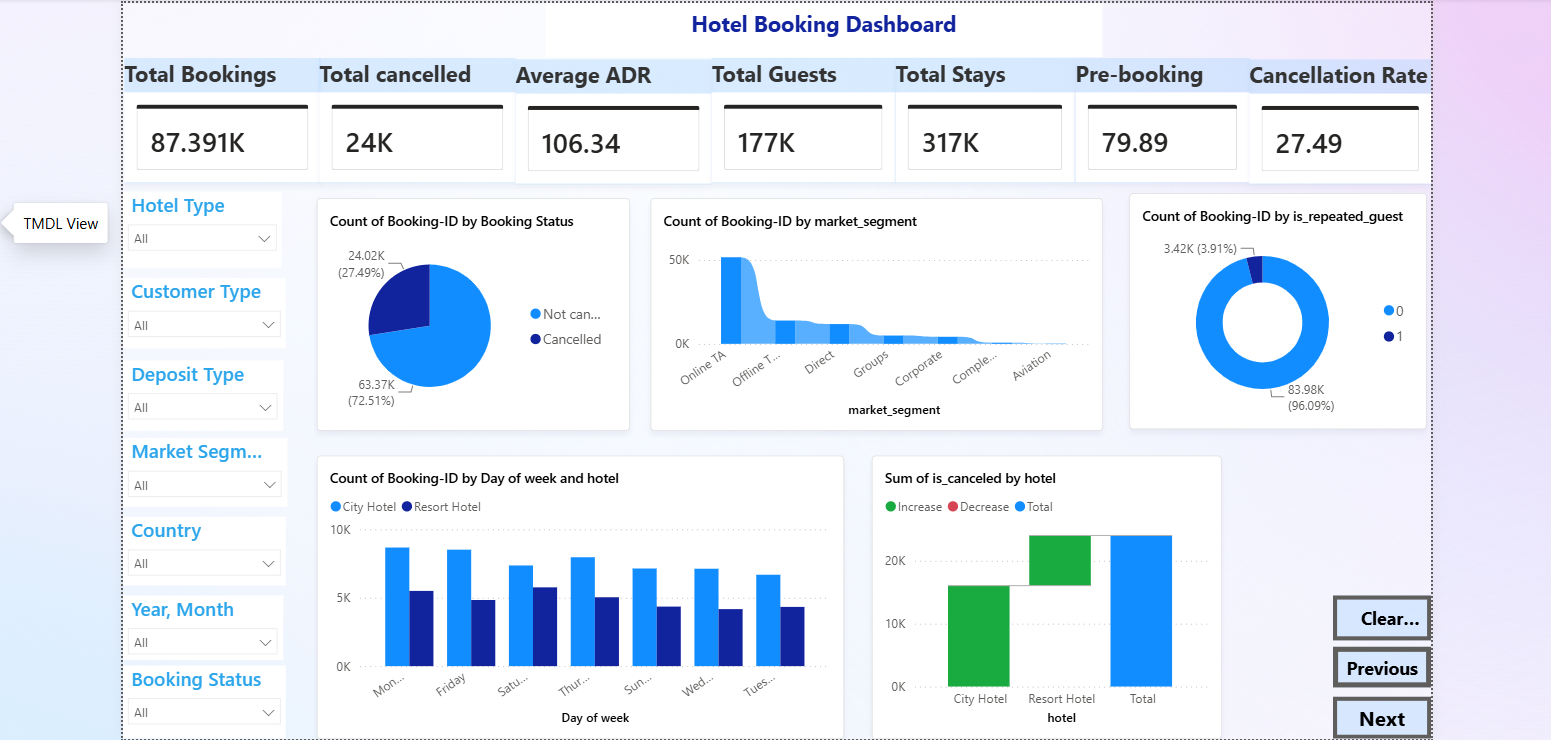

Layout of this report page (visuals, bound fields, positions):
{"tool":"powerbi","page":{"name":"Page 2","canvas":[1280,720],"ordinal":1},"visuals":[{"type":"pieChart","fields":{"Category":["Hotel Bookings (2).Booking Status"],"Y":["CountNonNull(Hotel Bookings (2).Booking-ID)"]},"box":[188.9,190.6,306.4,228.1],"z":0},{"type":"donutChart","fields":{"Category":["Hotel Bookings (2).is_repeated_guest"],"Y":["CountNonNull(Hotel Bookings (2).Booking-ID)"]},"box":[983.8,185.5,291.1,231.5],"z":1000},{"type":"ribbonChart","fields":{"Category":["Hotel Bookings (2).market_segment"],"Y":["CountNonNull(Hotel Bookings (2).Booking-ID)"]},"box":[515.7,190.6,442.6,228.1],"z":2000},{"type":"clusteredColumnChart","fields":{"Category":["Hotel Bookings (2).Day of week"],"Series":["Hotel Bookings (2).hotel"],"Y":["CountNonNull(Hotel Bookings (2).Booking-ID)"]},"box":[188.9,442.6,515.7,277.4],"z":3000},{"type":"waterfallChart","fields":{"Category":["Hotel Bookings (2).hotel"],"Y":["Sum(Hotel Bookings (2).is_canceled)"]},"box":[731.9,442.6,342.1,277.4],"z":4000},{"type":"slicer","fields":{"Values":["Hotel Bookings (2).hotel"]},"box":[0,185.2,155.1,74.1],"z":5000},{"type":"slicer","fields":{"Values":["Hotel Bookings (2).customer_type"]},"box":[0,269,159.2,68.6],"z":6000},{"type":"slicer","fields":{"Values":["Hotel Bookings (2).deposit_type"]},"box":[0,349.9,156.4,68.6],"z":7000},{"type":"slicer","fields":{"Values":["Hotel Bookings (2).market_segment"]},"box":[0,425.4,160.5,67.2],"z":8000},{"type":"slicer","fields":{"Values":["Hotel Bookings (2).country"]},"box":[0,502.2,159.2,67.2],"z":9000},{"type":"slicer","fields":{"Values":["Hotel Bookings (2).Arrival Date.Variation.Date Hierarchy.Year","Hotel Bookings (2).Arrival Date.Variation.Date Hierarchy.Month"]},"box":[0,579.1,156.4,63.1],"z":10000},{"type":"slicer","fields":{"Values":["Hotel Bookings (2).Booking Status"]},"box":[0,648.6,159.2,71.4],"z":11000},{"type":"cardVisual","title":"Total Bookings","fields":{"Data":["CountNonNull(Hotel Bookings (2).Booking-ID)"]},"box":[1.4,53.5,192.1,122.1],"z":12000},{"type":"cardVisual","title":"Total cancelled","fields":{"Data":["Sum(Hotel Bookings (2).is_canceled)"]},"box":[192.1,53.5,192.1,122.1],"z":13000},{"type":"cardVisual","title":"Average ADR","fields":{"Data":["Avg(Hotel Bookings (2).adr)"]},"box":[384.2,54.9,192.1,122.1],"z":14000},{"type":"cardVisual","title":"Total Guests","fields":{"Data":["Sum(Hotel Bookings (2).No. of guests)"]},"box":[576.3,53.5,179.8,122.1],"z":15000},{"type":"cardVisual","title":"Total Stays","fields":{"Data":["Sum(Hotel Bookings (2).Total Stays)"]},"box":[756.1,53.5,175.6,122.1],"z":16000},{"type":"cardVisual","title":"Pre-booking","fields":{"Data":["Avg(Hotel Bookings (2).lead_time)"]},"box":[931.7,53.5,170.2,122.1],"z":17000},{"type":"cardVisual","title":"Cancellation Rate","fields":{"Data":["Hotel Bookings (2).Cancellation Rate"]},"box":[1101.6,54.9,178.4,122.1],"z":18000},{"type":"actionButton","box":[1184.2,579.1,96.1,43.9],"z":19000},{"type":"textbox","box":[413.6,0,544.7,52.8],"z":20000},{"type":"actionButton","box":[1184.2,629.8,96.1,39.8],"z":21000},{"type":"actionButton","box":[1184.2,679.2,96.1,41.2],"z":22000}]}

Visuals, with their boxes on the page's 1280x720 design canvas (x1, y1, x2, y2). These are canvas units, not pixel positions in the 1551x740 screenshot, which may show the page scaled, cropped or inside an application window:
pieChart - Hotel Bookings (2).Booking Status x CountNonNull(Hotel Bookings (2).Booking-ID): <box>189,191,495,419</box>
donutChart - Hotel Bookings (2).is_repeated_guest x CountNonNull(Hotel Bookings (2).Booking-ID): <box>984,186,1275,417</box>
ribbonChart - Hotel Bookings (2).market_segment x CountNonNull(Hotel Bookings (2).Booking-ID): <box>516,191,958,419</box>
clusteredColumnChart - Hotel Bookings (2).Day of week x Hotel Bookings (2).hotel: <box>189,443,705,720</box>
waterfallChart - Hotel Bookings (2).hotel x Sum(Hotel Bookings (2).is_canceled): <box>732,443,1074,720</box>
slicer - Hotel Bookings (2).hotel: <box>0,185,155,259</box>
slicer - Hotel Bookings (2).customer_type: <box>0,269,159,338</box>
slicer - Hotel Bookings (2).deposit_type: <box>0,350,156,418</box>
slicer - Hotel Bookings (2).market_segment: <box>0,425,160,493</box>
slicer - Hotel Bookings (2).country: <box>0,502,159,569</box>
slicer - Hotel Bookings (2).Arrival Date.Variation.Date Hierarchy.Year x Hotel Bookings (2).Arrival Date.Variation.Date Hierarchy.Month: <box>0,579,156,642</box>
slicer - Hotel Bookings (2).Booking Status: <box>0,649,159,720</box>
"Total Bookings" cardVisual: <box>1,54,194,176</box>
"Total cancelled" cardVisual: <box>192,54,384,176</box>
"Average ADR" cardVisual: <box>384,55,576,177</box>
"Total Guests" cardVisual: <box>576,54,756,176</box>
"Total Stays" cardVisual: <box>756,54,932,176</box>
"Pre-booking" cardVisual: <box>932,54,1102,176</box>
"Cancellation Rate" cardVisual: <box>1102,55,1280,177</box>
actionButton: <box>1184,579,1280,623</box>
textbox: <box>414,0,958,53</box>
actionButton: <box>1184,630,1280,670</box>
actionButton: <box>1184,679,1280,720</box>
